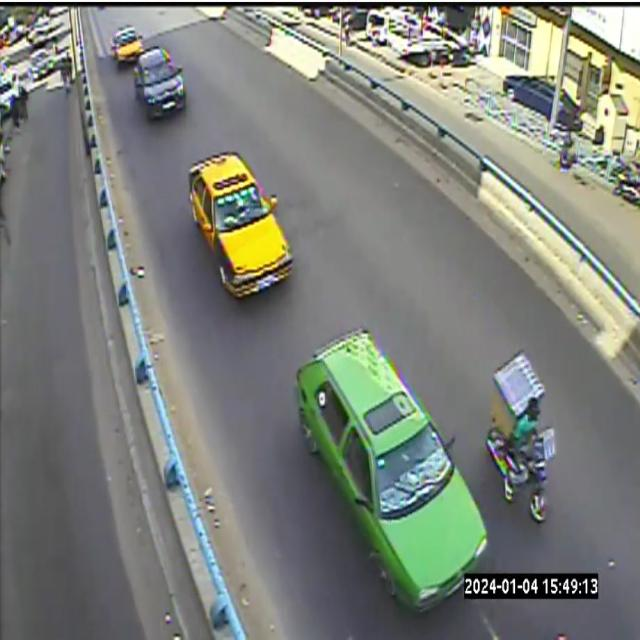car: (294, 329, 488, 608), (189, 151, 292, 298), (134, 46, 186, 118), (111, 26, 145, 67)
